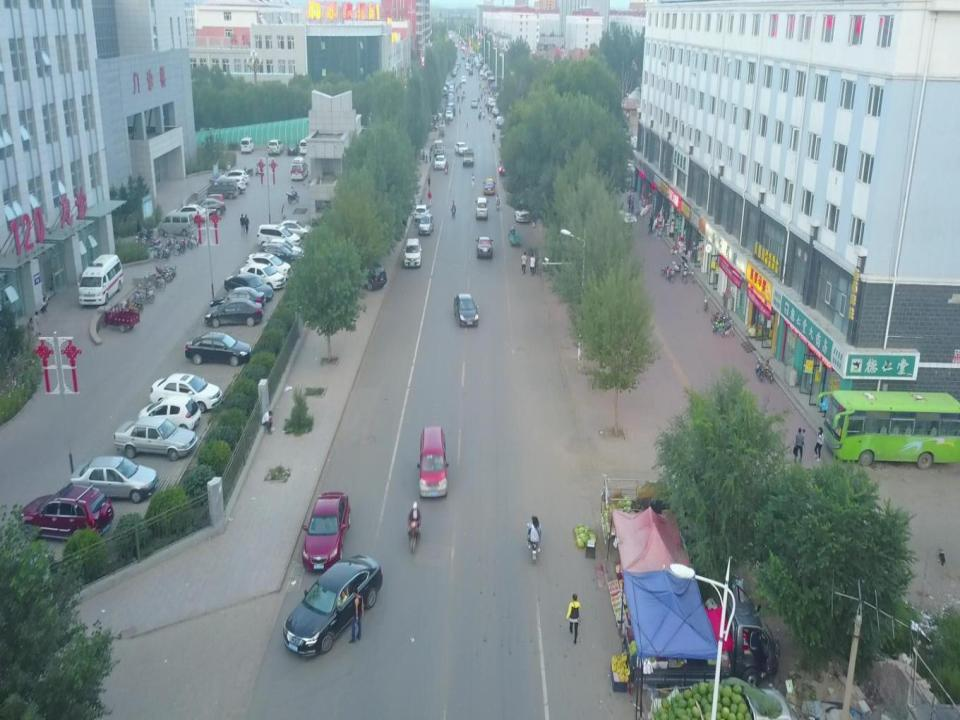bus: (816, 388, 960, 470)
car: (283, 553, 382, 659), (17, 483, 114, 546), (70, 454, 157, 502), (301, 490, 350, 572), (113, 418, 198, 460), (149, 373, 223, 413), (185, 331, 252, 366), (137, 396, 202, 430), (204, 298, 263, 328), (210, 285, 266, 311), (223, 273, 273, 301), (238, 262, 286, 290), (348, 258, 388, 291), (248, 252, 294, 280), (257, 224, 301, 248), (453, 292, 479, 327), (259, 244, 302, 265), (275, 219, 314, 240), (266, 239, 304, 260), (192, 197, 226, 216), (174, 204, 210, 221), (402, 238, 421, 267), (222, 170, 250, 188), (216, 176, 245, 193), (475, 236, 493, 258), (418, 214, 434, 234), (413, 204, 430, 221), (267, 138, 283, 156), (483, 178, 496, 196), (463, 148, 474, 168), (434, 154, 447, 170), (454, 142, 469, 155), (286, 142, 298, 154), (446, 110, 453, 121), (461, 76, 466, 83)
truck: (622, 584, 778, 688), (599, 472, 709, 544), (646, 688, 800, 720)
van: (77, 254, 123, 308), (416, 426, 449, 499), (158, 211, 195, 237), (206, 179, 239, 200), (290, 157, 309, 182), (514, 197, 530, 222), (475, 197, 489, 220), (240, 136, 254, 154), (299, 138, 309, 154), (433, 140, 444, 154), (446, 103, 456, 111), (471, 99, 477, 107)
